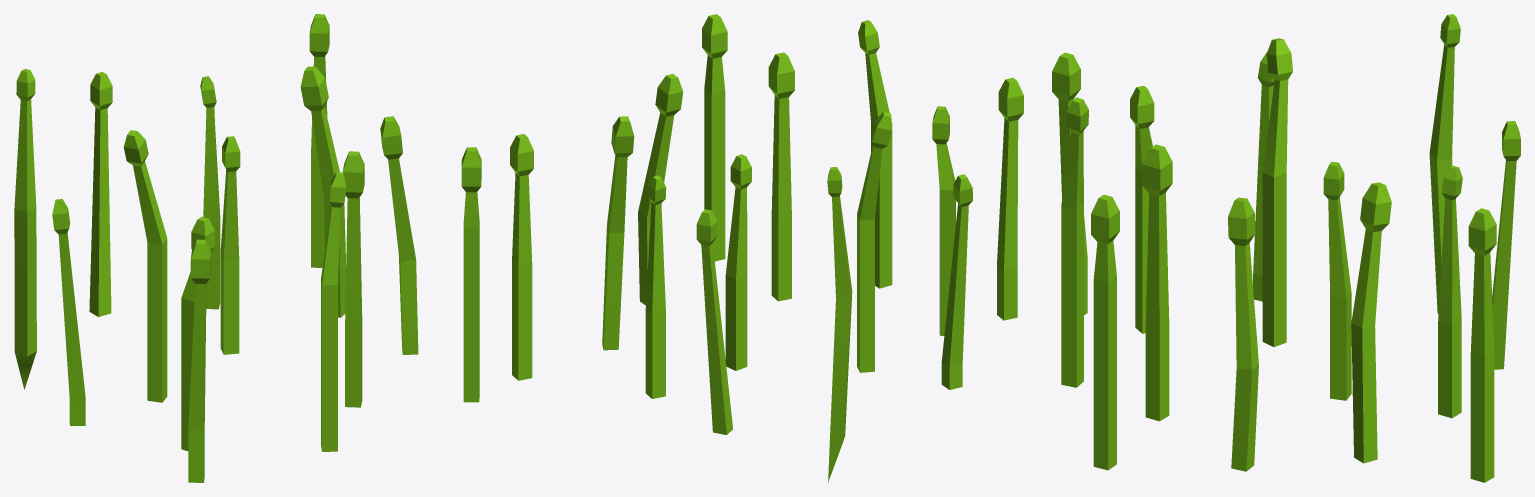
File: wheatStage3.obj
The picture shows the model from 3 angles, left to right: view 1: azimuth 30°, elevation 25°; view 2: azimuth 150°, elevation 25°; view 3: azimuth 270°, elevation 25°; orthographic projection. The views are drawn at different scales.
Parts seen in each view (by area): view 1: Cube.012; view 2: Cube.012; view 3: Cube.012.
Boxes of the visible parts, left/top/right/bottom form: Cube.012: left=14, top=14, right=481, bottom=482; Cube.012: left=510, top=14, right=1023, bottom=482; Cube.012: left=1052, top=14, right=1520, bottom=482.
Bounding box in the file's own units: 1.6 × 1.31 × 1.6.
